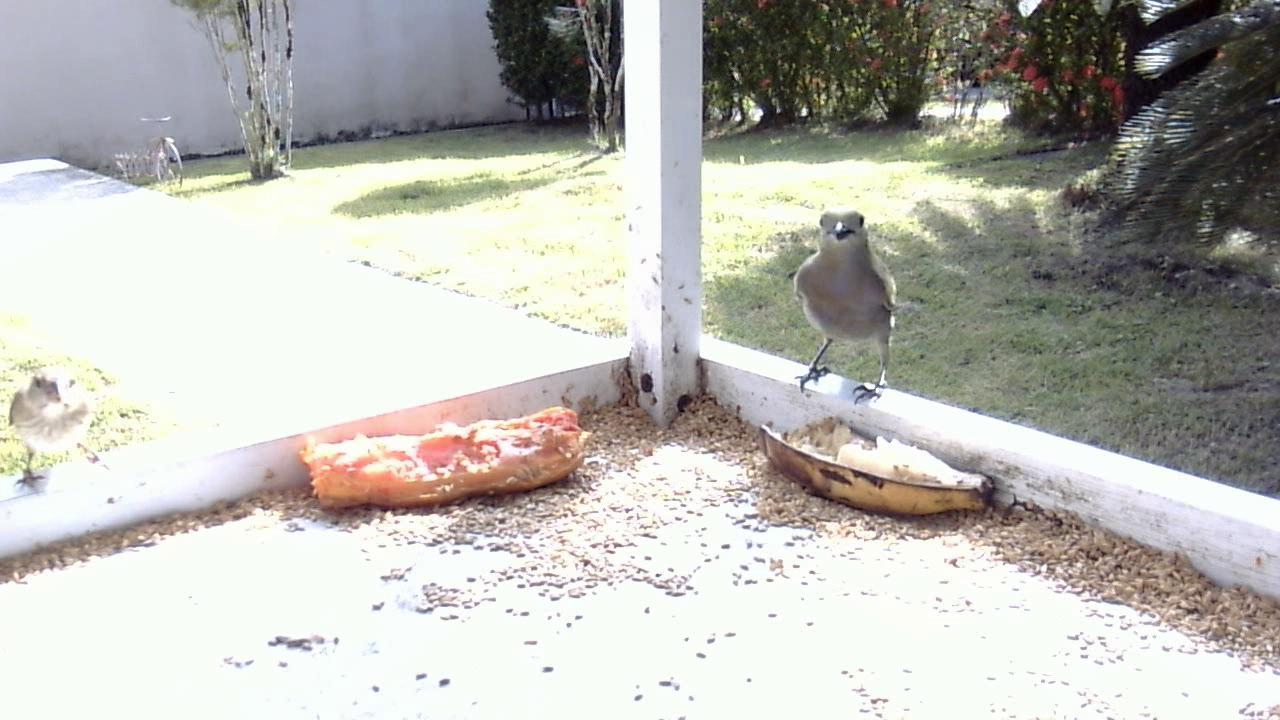sanhaco_do_coqueiro: (786, 207, 903, 412)
